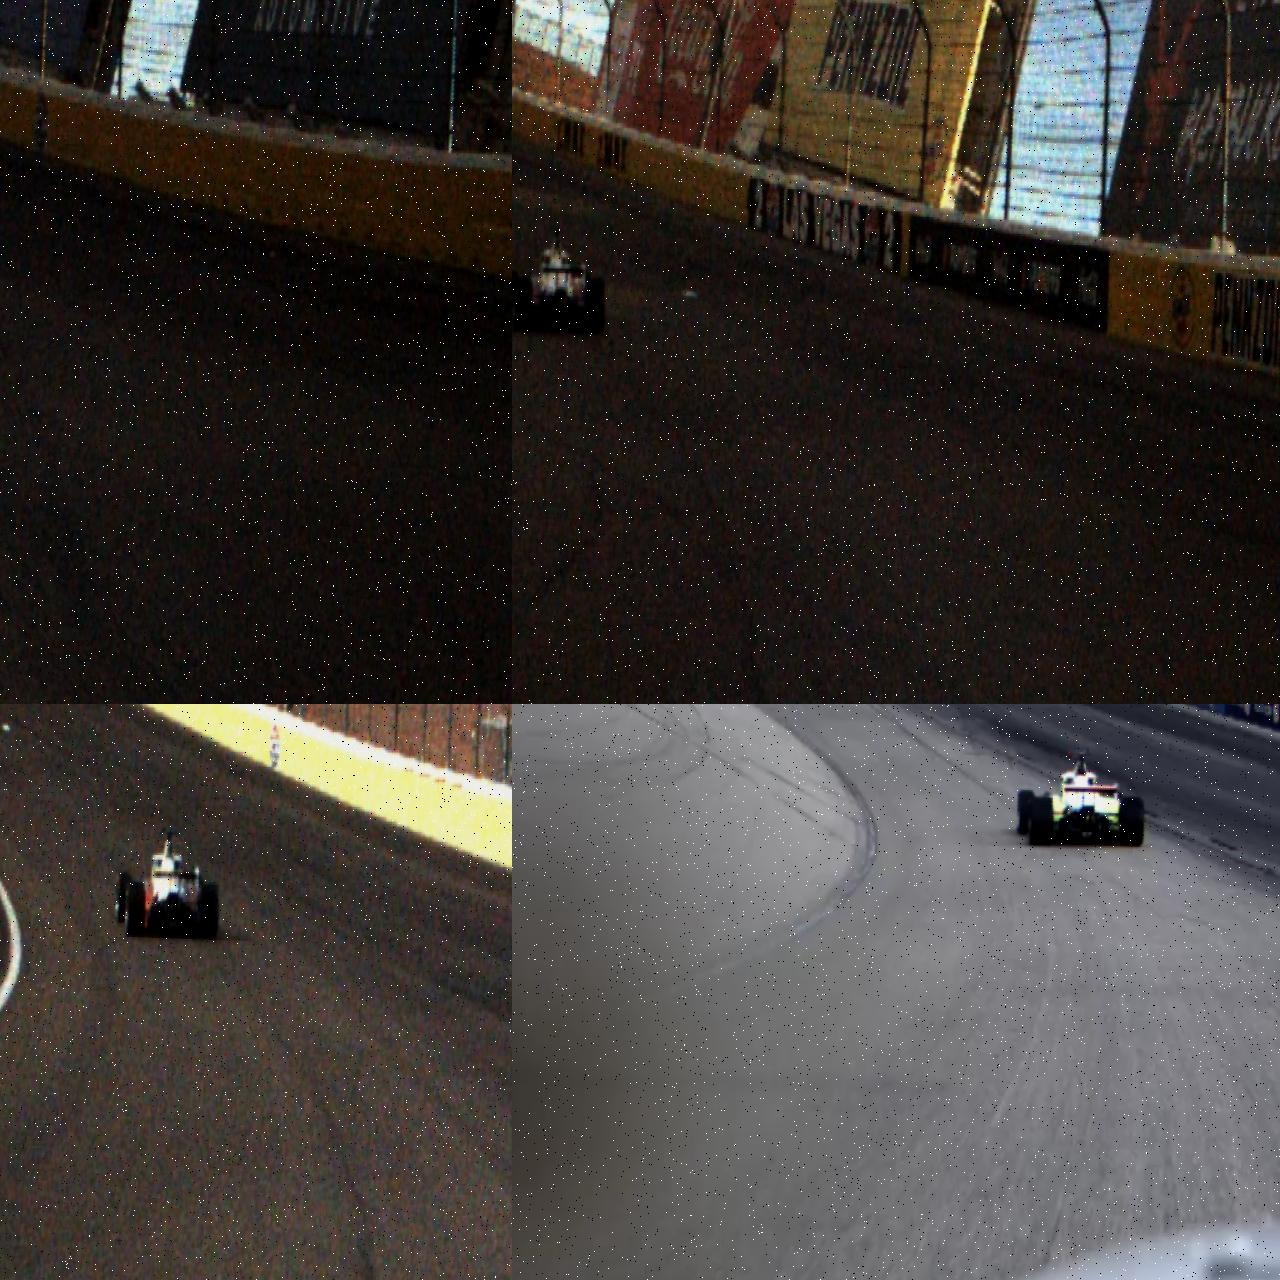AV: (1016, 746, 1146, 850), (113, 826, 222, 940), (512, 224, 607, 335)
Wheel: (1028, 796, 1054, 846), (1120, 796, 1144, 846), (125, 882, 146, 938), (200, 884, 220, 940), (586, 277, 605, 335), (512, 277, 532, 332), (115, 871, 132, 924), (1016, 789, 1034, 836), (512, 269, 517, 320)
